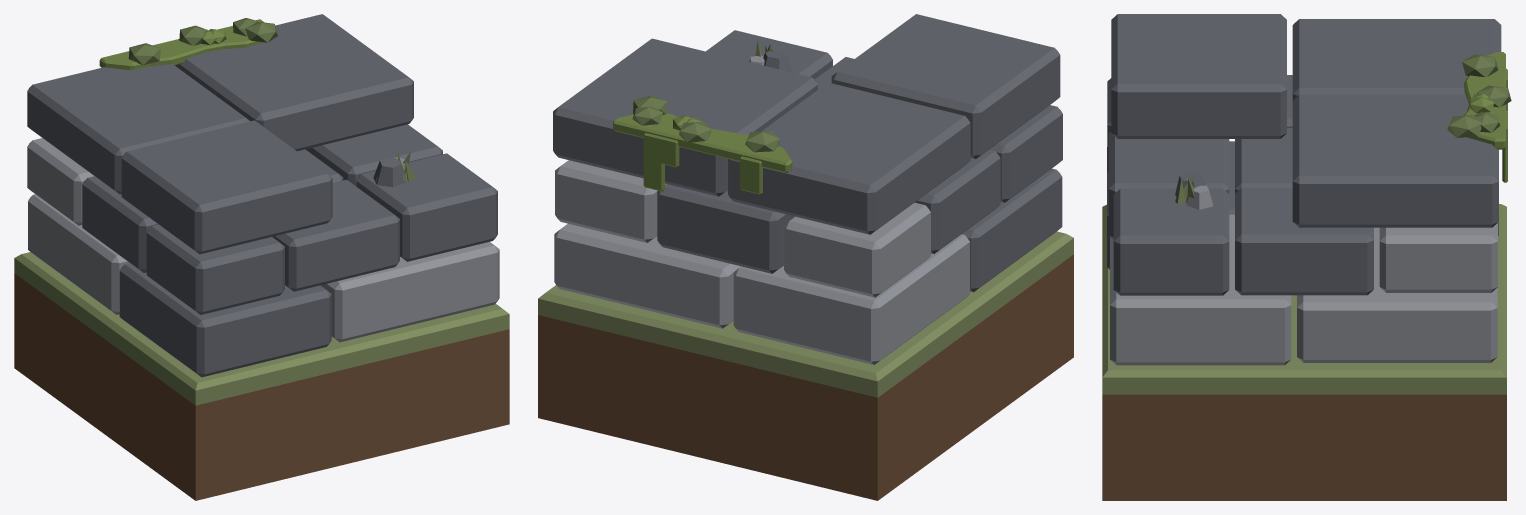
Rendered from Wall B.fbx.
3 renders of one model, left to right at view 1: azimuth 30°, elevation 25°; view 2: azimuth 150°, elevation 25°; view 3: azimuth 270°, elevation 25°, orthographic. The views are drawn at different scales.
Visible parts, largest first — view 1: Wall B; view 2: Wall B; view 3: Wall B.
Boxes of the visible parts, bbox=[...] form: Wall B: bbox=[14, 14, 509, 500]; Wall B: bbox=[538, 14, 1073, 500]; Wall B: bbox=[1102, 14, 1511, 500].
Bounding box in the file's own units: 1 × 0.923 × 1.01.
